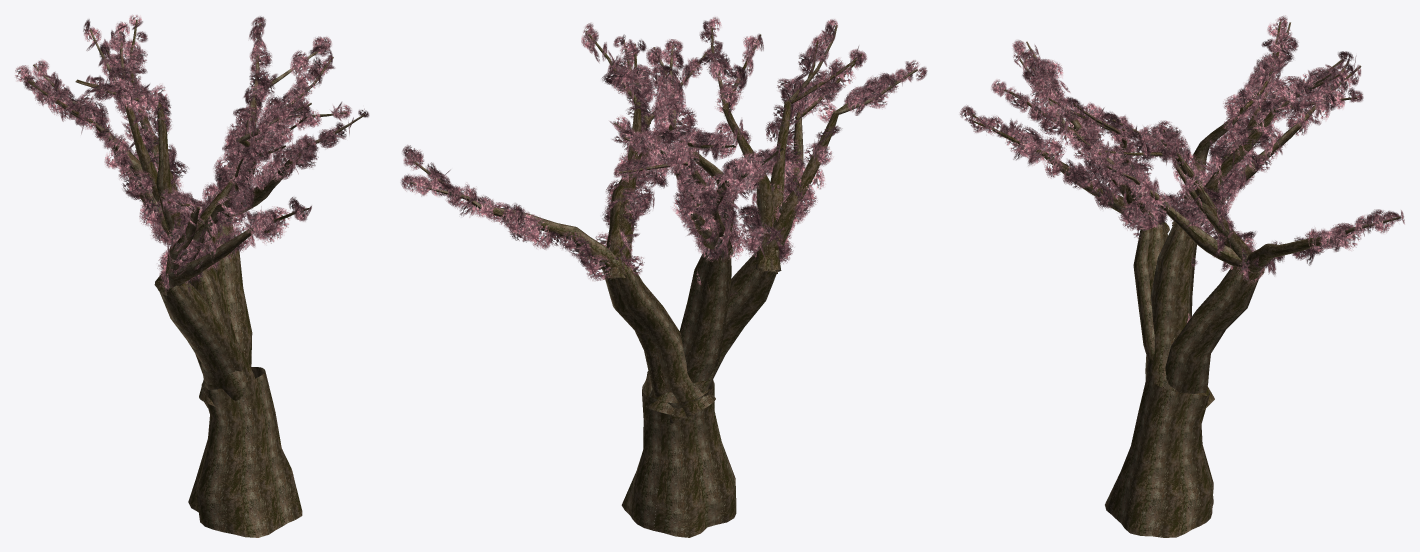
Rendered from blossom_3x_1.glb.
3 views of the same model, side by side, from view 1: azimuth 30°, elevation 25°; view 2: azimuth 150°, elevation 25°; view 3: azimuth 270°, elevation 25° (orthographic). The views are drawn at different scales.
Visible parts, largest first — view 1: blossom; view 2: blossom; view 3: blossom.
Part boxes in pixels (<box>): blossom: <box>15,15,369,537</box>; blossom: <box>400,17,927,537</box>; blossom: <box>959,15,1404,537</box>.
Bounding box in the file's own units: 38.73 × 48.83 × 45.66.
Materials: 2 (2 with a texture image).
